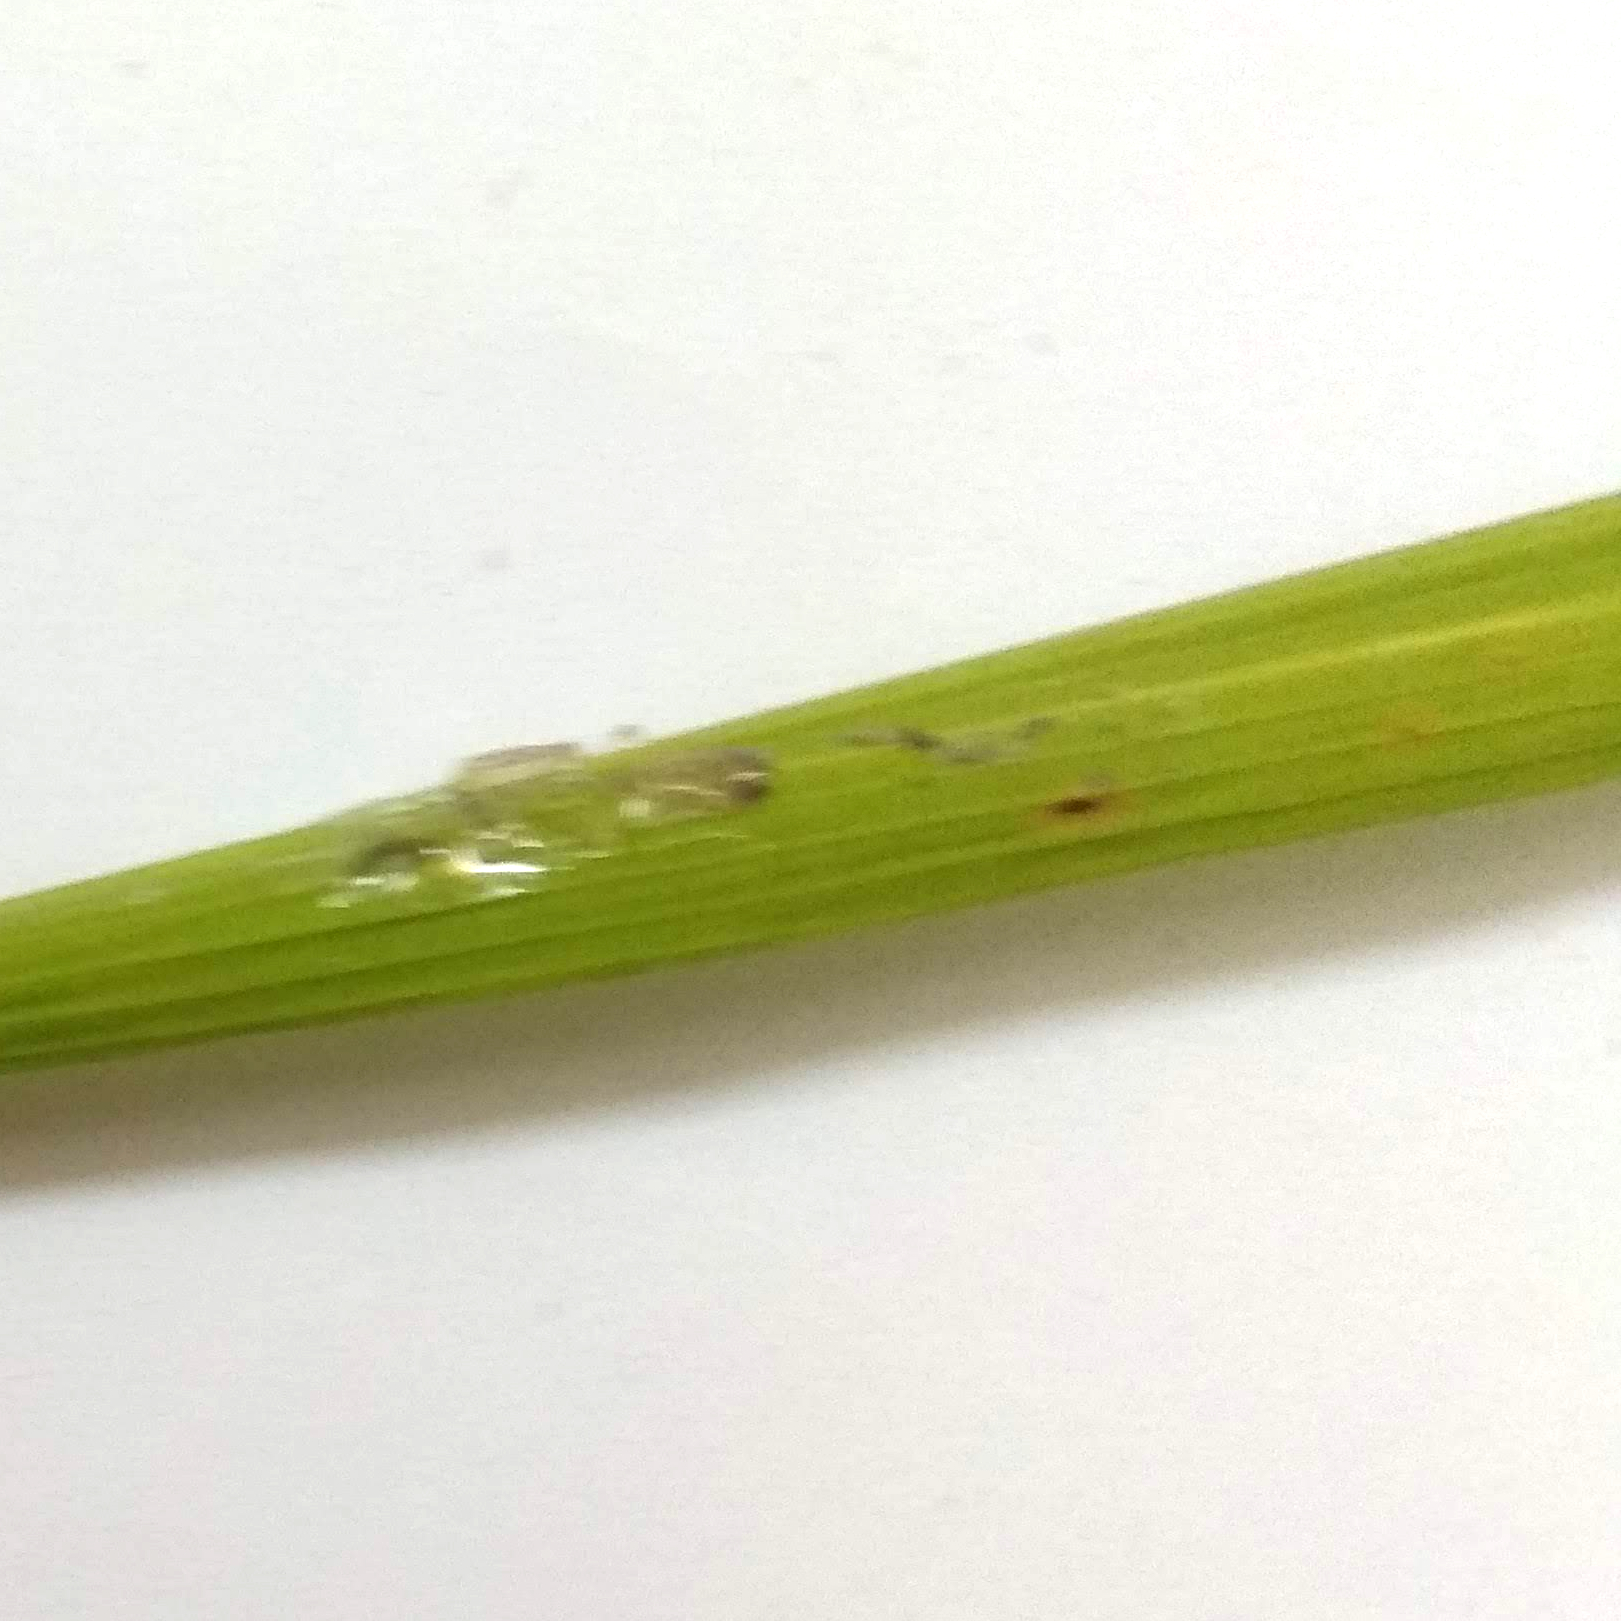brown spot: (623, 753, 781, 819), (842, 718, 1009, 779), (338, 825, 444, 885), (1030, 781, 1137, 836), (1372, 698, 1455, 764)
